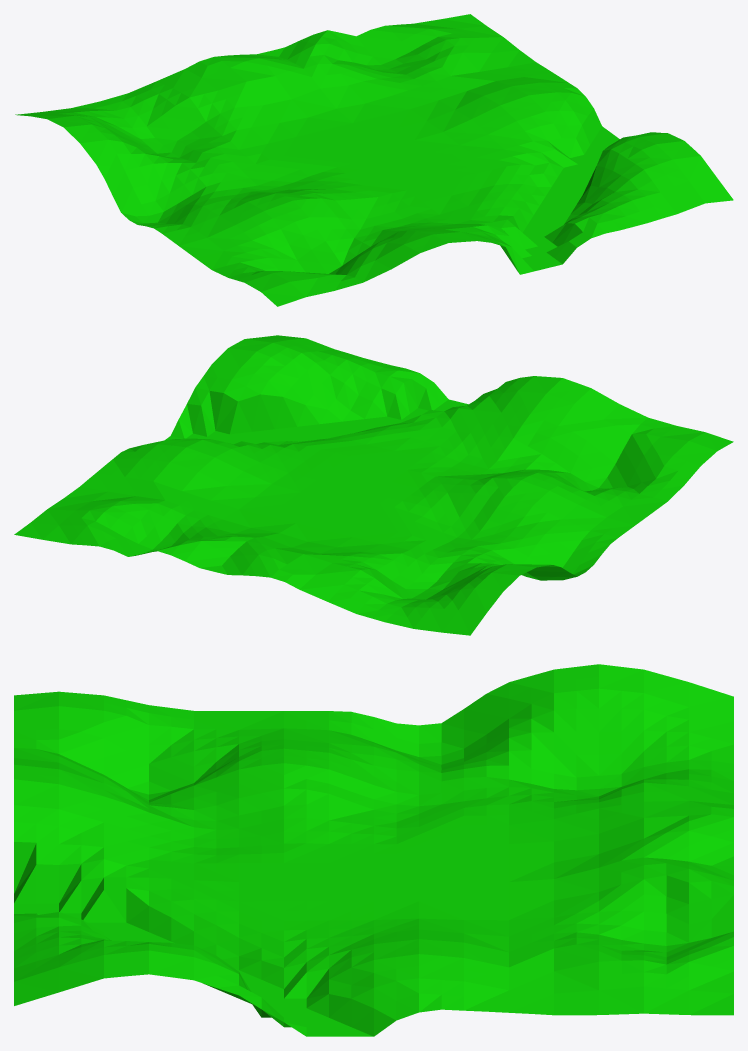
The model's file is Field.fbx.
The picture shows the model from 3 angles, top to bottom: view 1: azimuth 30°, elevation 25°; view 2: azimuth 150°, elevation 25°; view 3: azimuth 270°, elevation 25°; orthographic projection. The views are drawn at different scales.
Visible parts, largest first — view 1: Field; view 2: Field; view 3: Field.
Part boxes in pixels (x1,y1,x2,y2): Field: (15,14,733,306); Field: (14,335,733,635); Field: (14,664,733,1036).
Size of the model in its own units: 10419 by 1179 by 10419.
